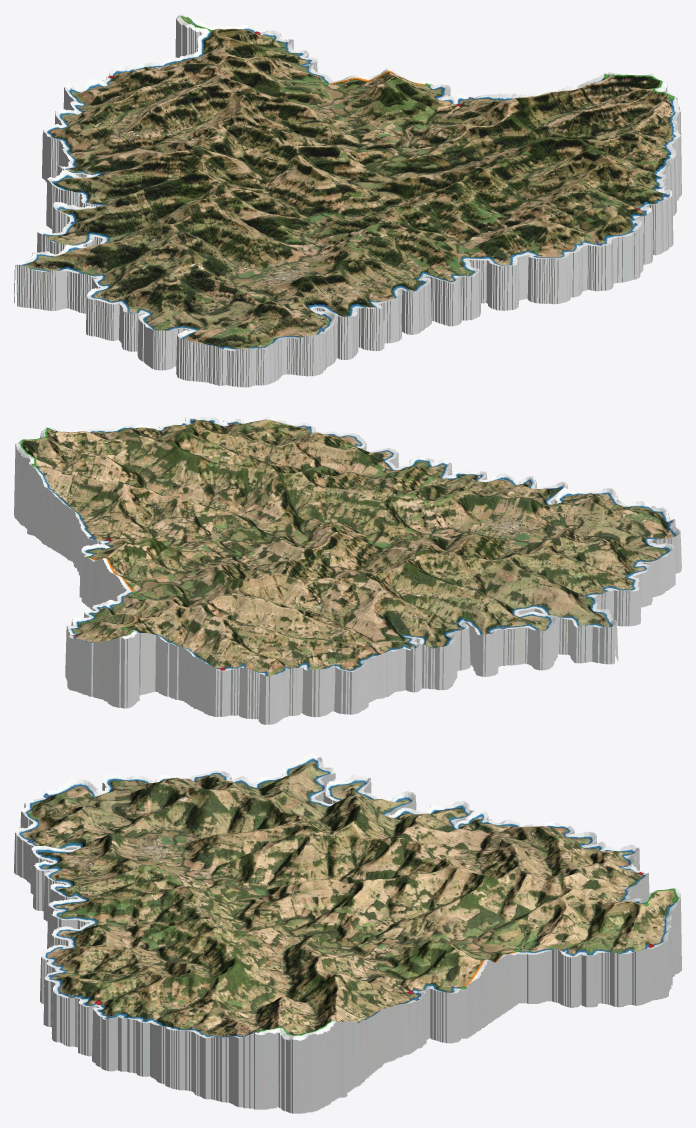
3 views of the same model, one above another, from view 1: azimuth 30°, elevation 25°; view 2: azimuth 150°, elevation 25°; view 3: azimuth 270°, elevation 25° (orthographic). The views are drawn at different scales.
Size of the model in its own units: 1 by 0.1128 by 0.8857.
Materials: 1 (1 with a texture image).
